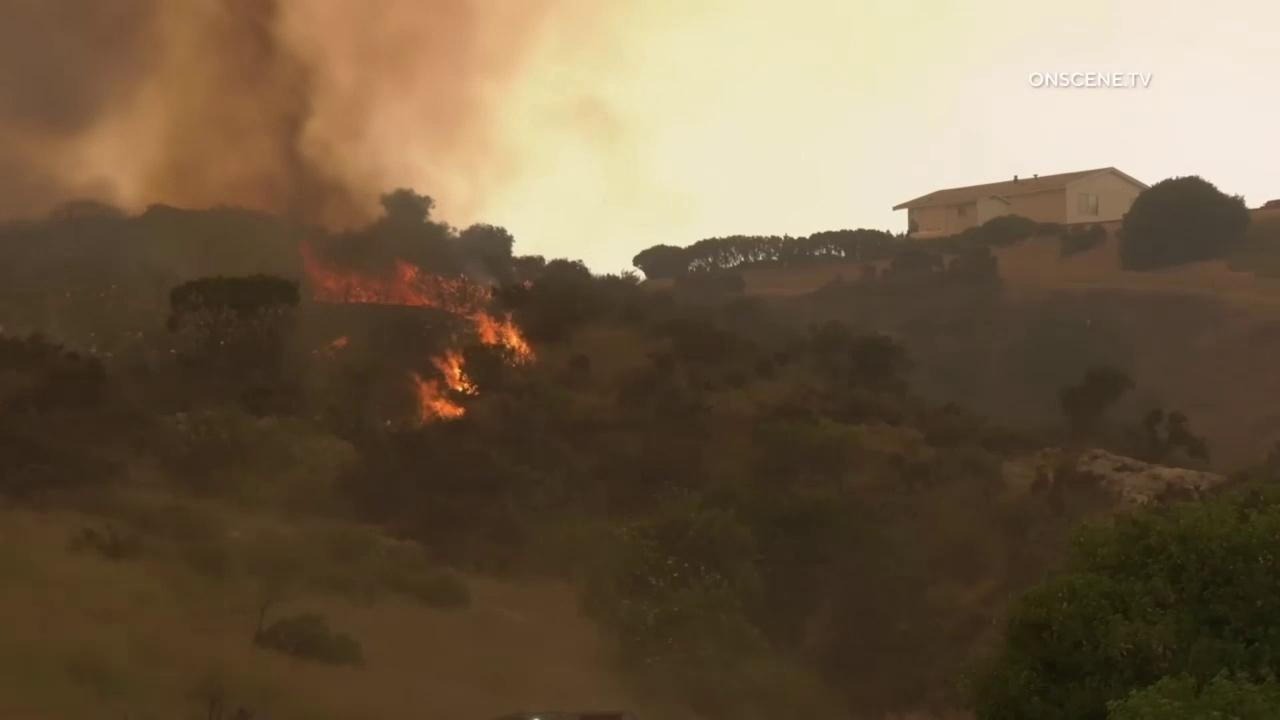fire: (297, 239, 537, 367), (410, 346, 481, 427), (331, 334, 347, 349), (520, 279, 534, 292)
smoke: (0, 0, 560, 408)
